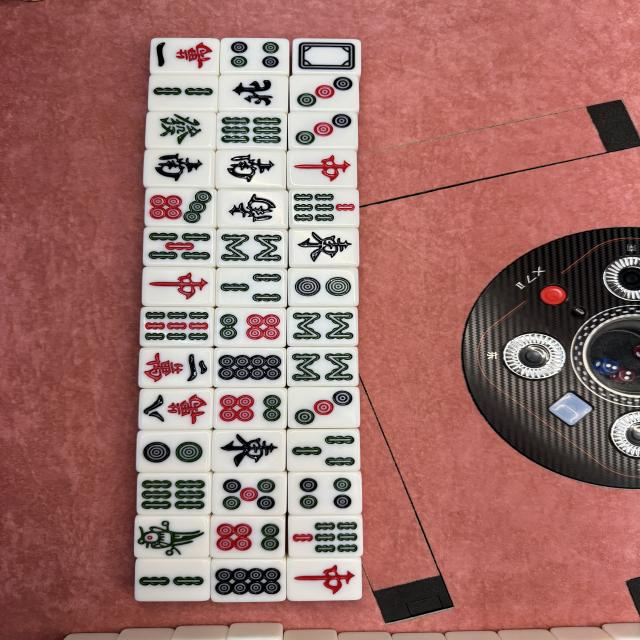hdg: (145, 111, 215, 147)
hdr: (288, 559, 362, 601), (142, 267, 215, 307), (287, 150, 357, 188)
hdw: (292, 38, 361, 74)
hwe: (212, 430, 286, 472), (289, 228, 359, 267)
hwn: (218, 74, 288, 110)
hws: (217, 189, 288, 228), (215, 150, 287, 188), (143, 150, 214, 188)
sb1: (135, 516, 209, 558)
sb2: (135, 560, 210, 601), (148, 74, 216, 110)
sb3: (286, 429, 361, 471), (216, 268, 287, 307)
sb5: (143, 227, 214, 266)
sb6: (138, 474, 210, 514), (216, 113, 286, 148)
sb7: (288, 516, 363, 558), (289, 189, 359, 227)
sb8: (216, 229, 288, 268), (287, 307, 358, 346), (287, 347, 359, 385)
sb9: (140, 307, 213, 347)
sc1: (149, 38, 218, 72)
sc2: (138, 348, 212, 388)
sc8: (139, 388, 212, 429)
sd2: (137, 431, 210, 472), (287, 268, 358, 306)
sd3: (287, 387, 360, 428), (288, 111, 358, 148), (290, 75, 360, 109)
sd4: (288, 472, 362, 515), (220, 38, 290, 72)
sd5: (212, 472, 286, 514)
sd6: (210, 516, 285, 558), (214, 388, 287, 429), (214, 308, 285, 347)
sd7: (145, 188, 214, 225)
sd8: (211, 559, 286, 602), (213, 348, 286, 388)
